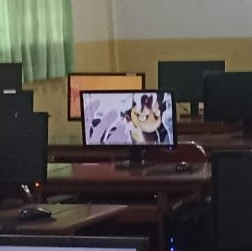monitor: (80, 89, 178, 150), (0, 110, 49, 187), (203, 72, 252, 123), (0, 63, 23, 94)
